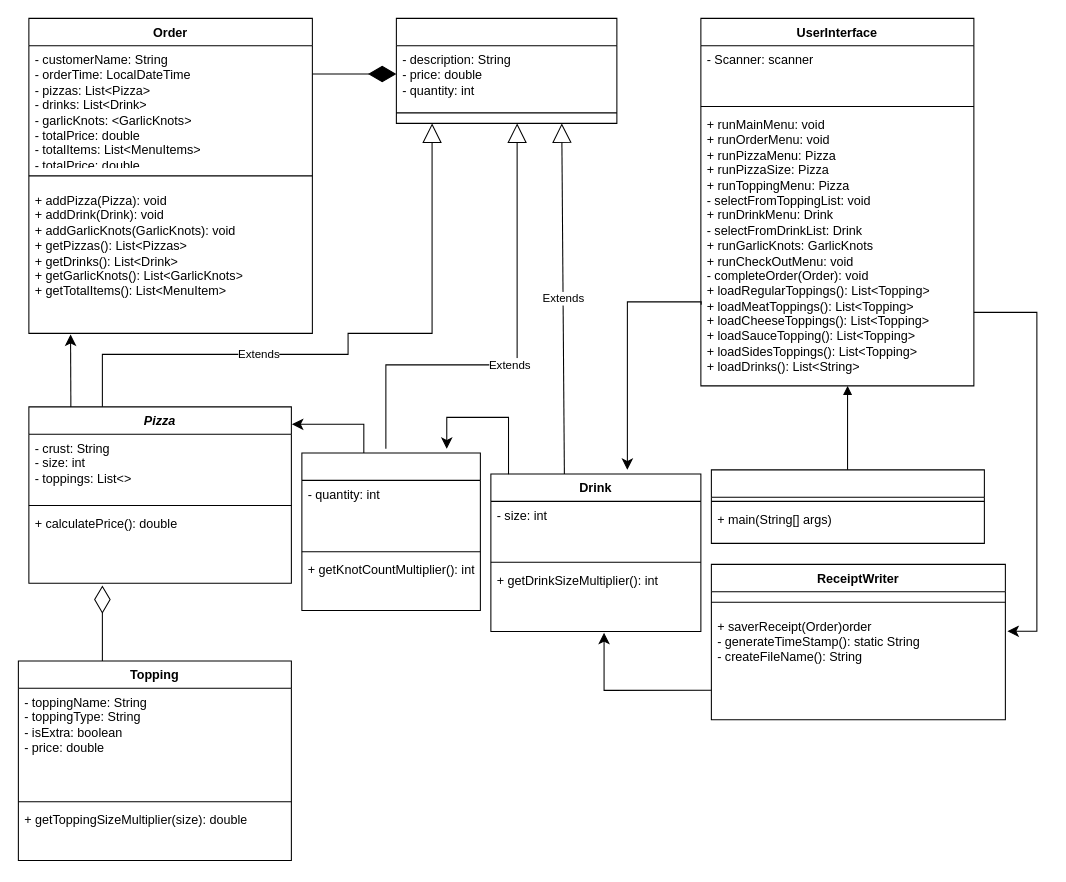
Image size: 1066x882. Some labels were removed from this diagram. The box of each missing label's shape, as (x1, y1, x2, y2) in pixels:
Application: (710, 469, 984, 543)
GarlicKnots: (301, 452, 480, 611)
MenuItem: (395, 17, 617, 123)
